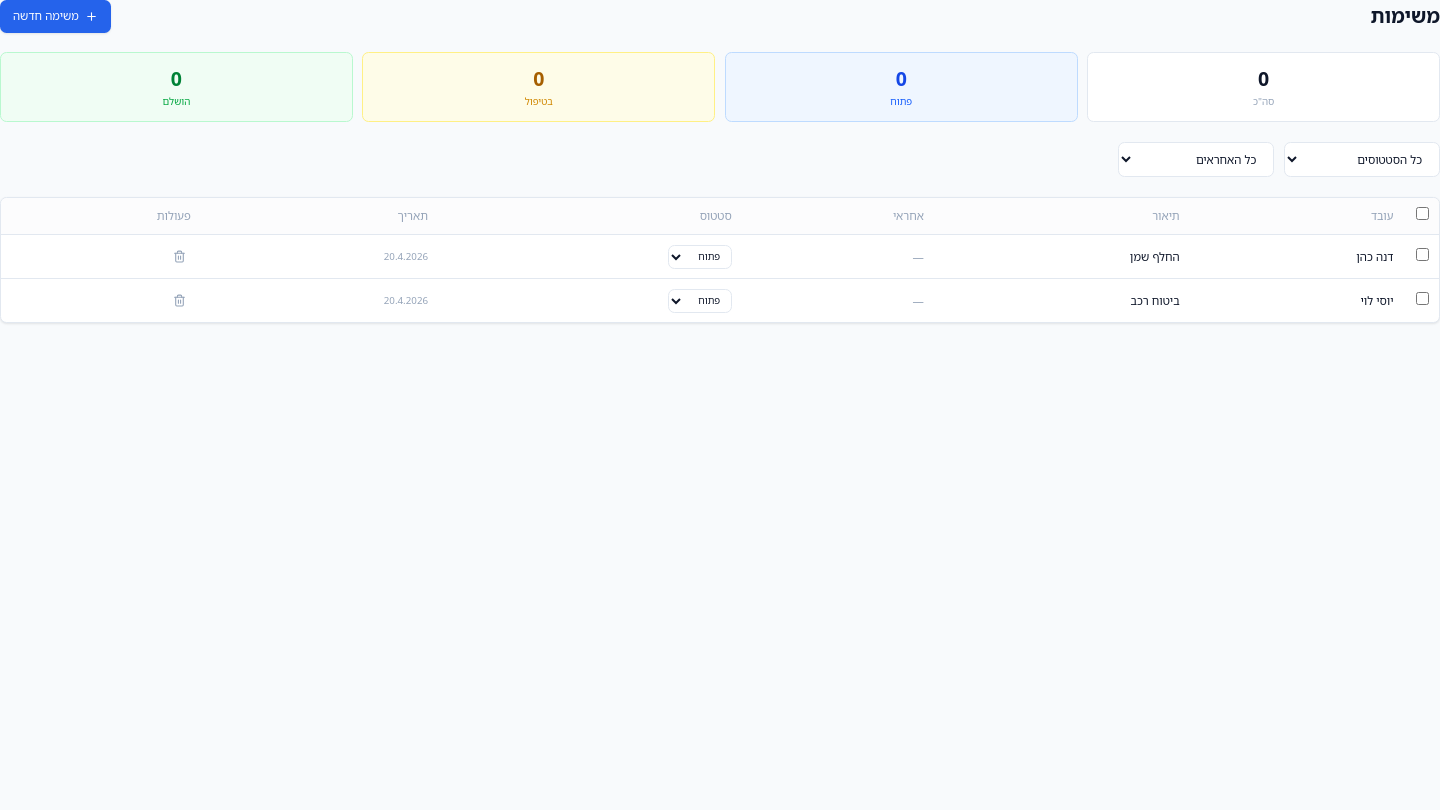
Test: TasksClient — bulk delete flow › clicking 'מחק נבחרים' opens the dialog with selected names listed
Click the checkbox named "בחר דנה כהן — החלף שמן": [1423, 255] box [1416,248,1429,261]
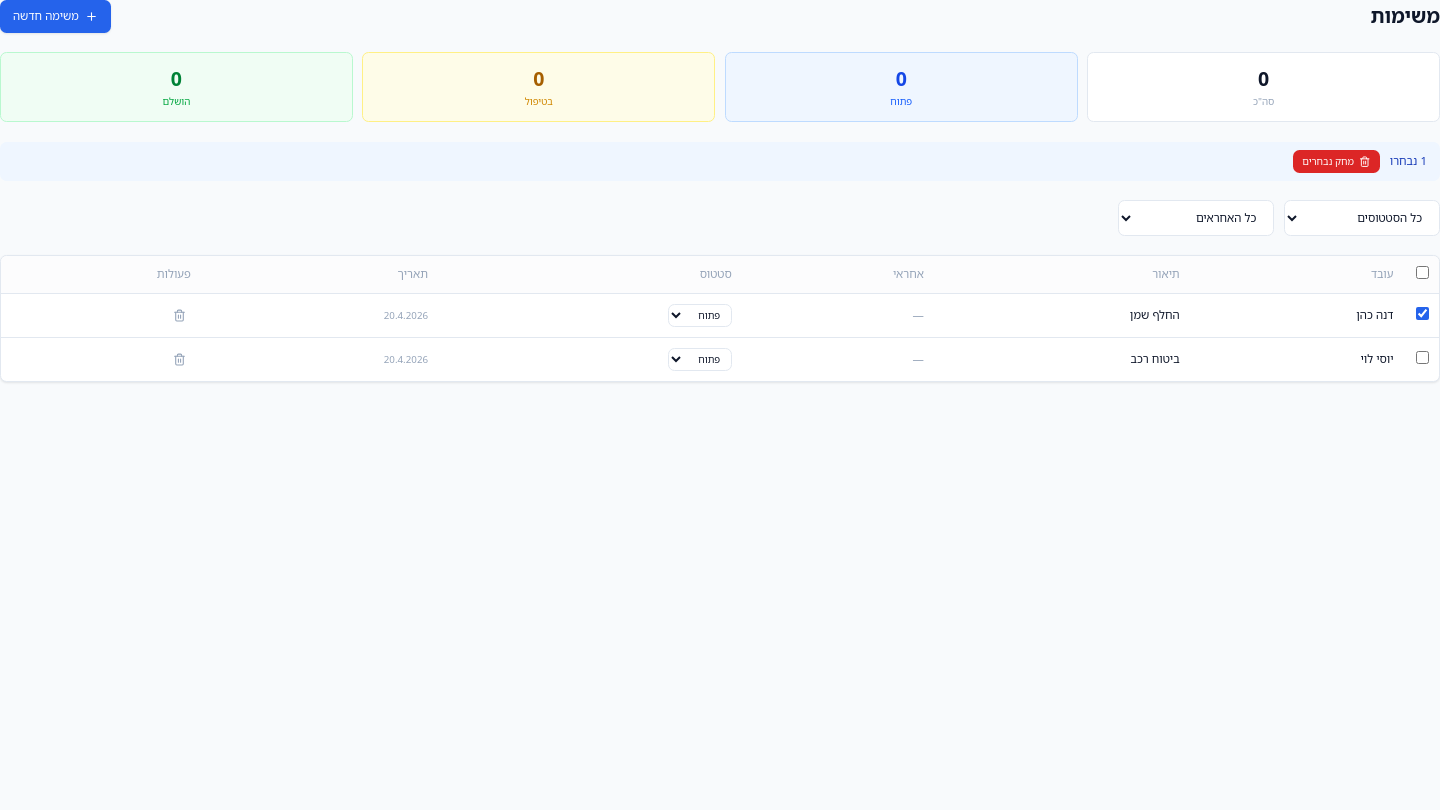
Click the checkbox named "בחר יוסי לוי — ביטוח רכב": [1423, 357] box [1416,351,1429,364]
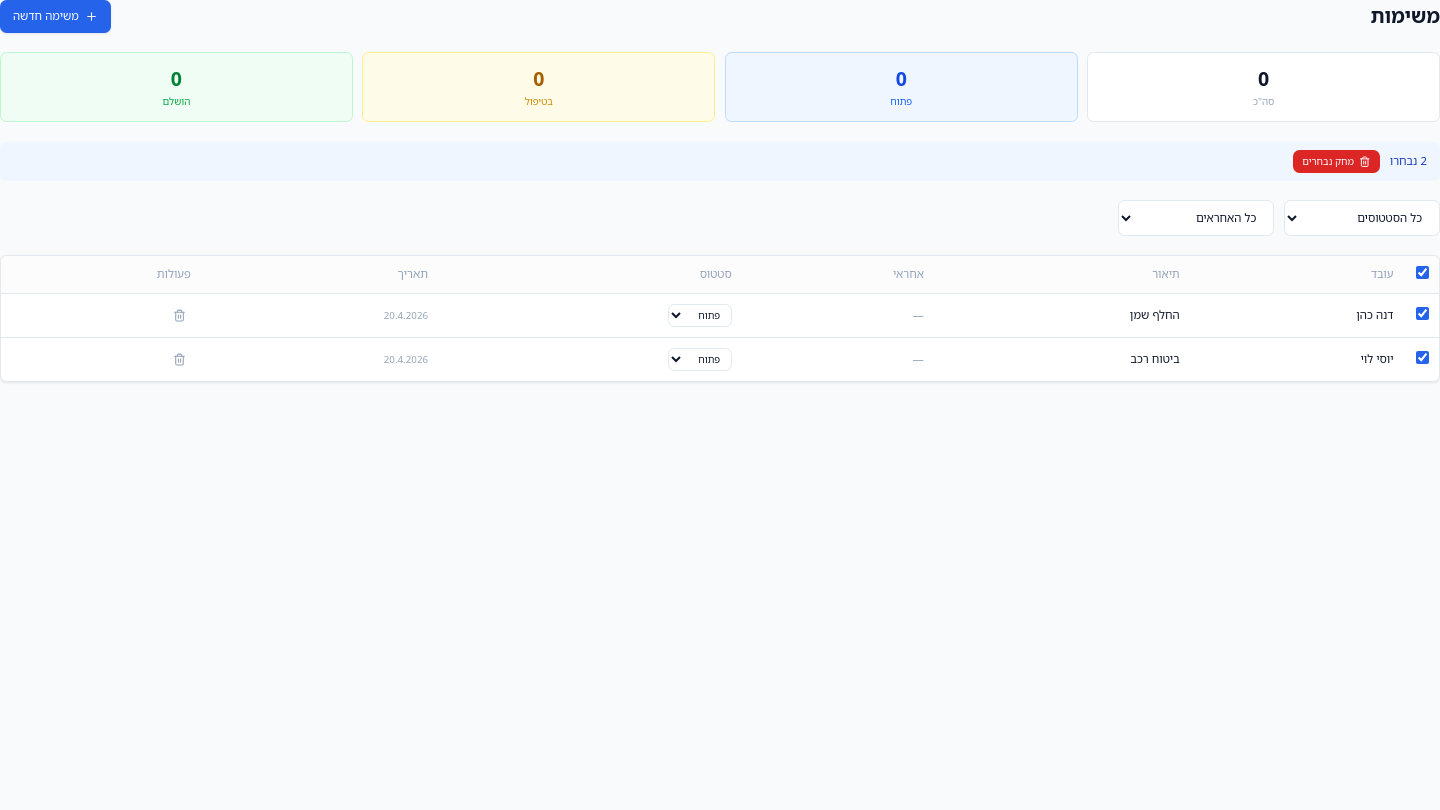
Click the button "מחק נבחרים": [1336, 161] box [1292,150,1380,173]
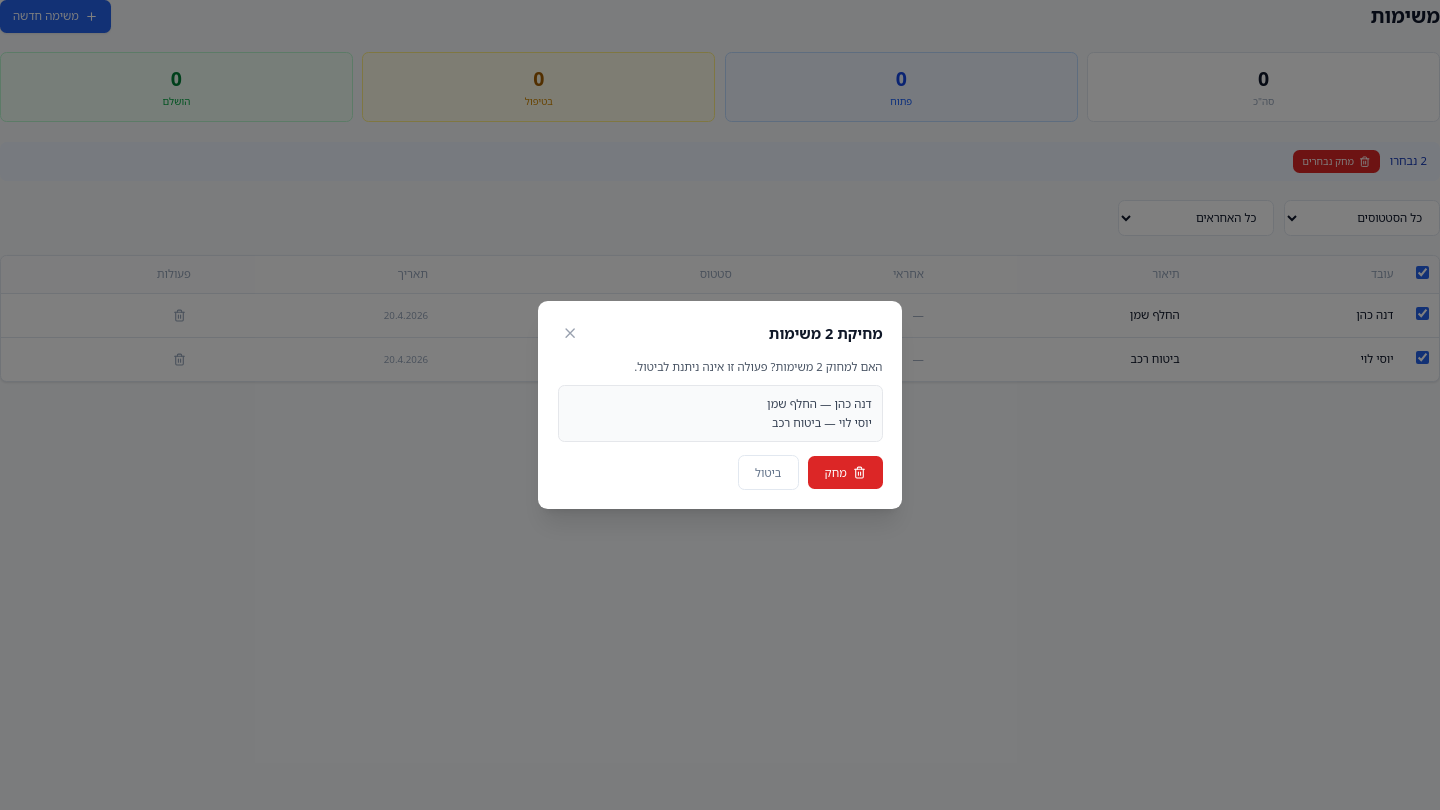
Expected: the list item "דנה כהן — החלף שמן" is shown, [767,396,872,411]
Expected: the list item "יוסי לוי — ביטוח רכב" is shown, [772,415,872,430]
